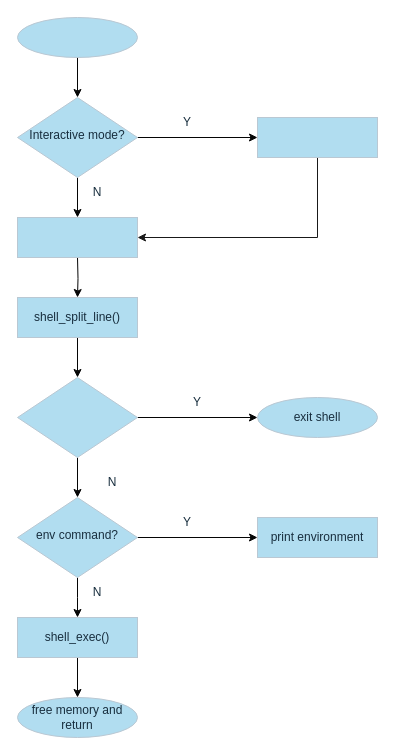
This 395x755 diagram has some shape labels left out. The centre of each missing label's shape, as x and y in pixels:
exit command?: the point at 77,417
Print prompt ($): the point at 317,137
Run shell with command ./hsh: the point at 77,37
shell_read_line(): the point at 77,237
